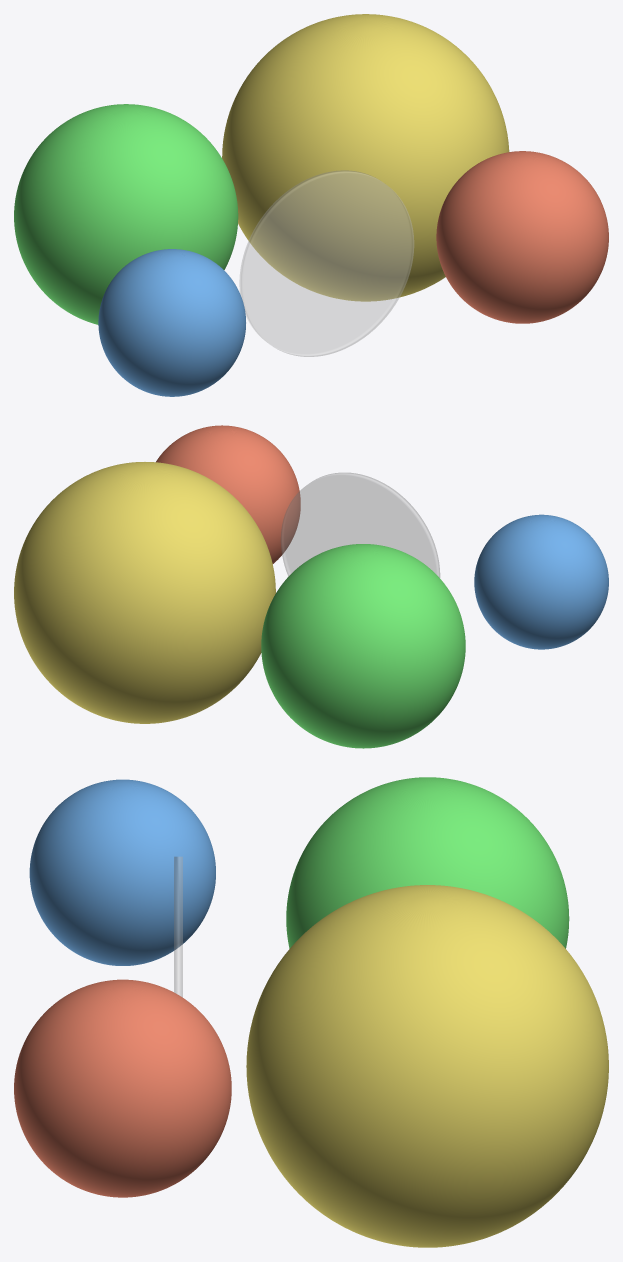
The model's file is test_transmission.gltf.
3 renders of one model, top to bottom at view 1: azimuth 30°, elevation 25°; view 2: azimuth 150°, elevation 25°; view 3: azimuth 270°, elevation 25°, orthographic. The views are drawn at different scales.
Parts seen in each view (by area): view 1: Sphere.001, Sphere.002, Cylinder, Sphere, Sphere.003; view 2: Sphere.001, Sphere.002, Sphere.003, Cylinder, Sphere; view 3: Sphere.001, Sphere, Sphere.002, Sphere.003, Cylinder.
Boxes of the visible parts, x1,y1,x2,y2 form: Sphere.001: [222, 14, 509, 301]; Sphere.002: [14, 104, 238, 324]; Cylinder: [239, 170, 413, 356]; Sphere: [436, 151, 608, 323]; Sphere.003: [98, 249, 245, 396]; Sphere.001: [14, 462, 275, 723]; Sphere.002: [261, 544, 465, 748]; Sphere.003: [474, 514, 608, 649]; Cylinder: [281, 473, 439, 577]; Sphere: [156, 425, 300, 563]; Sphere.001: [246, 885, 608, 1247]; Sphere: [14, 979, 231, 1197]; Sphere.002: [286, 777, 569, 948]; Sphere.003: [29, 779, 215, 965]; Cylinder: [174, 857, 182, 997].
Size of the model in its own units: 0.9831 by 0.4897 by 0.7987.
